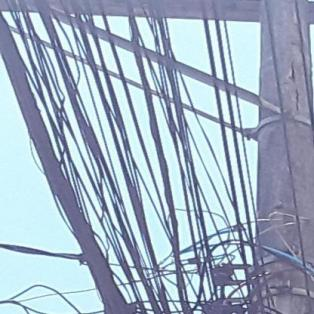Poste: (225, 4, 314, 314)
